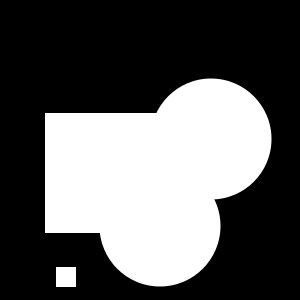circle: (45, 113, 165, 233), (56, 267, 76, 287)
rectangle: (150, 78, 272, 200), (100, 166, 220, 286)
triangle: (87, 168, 115, 196)
